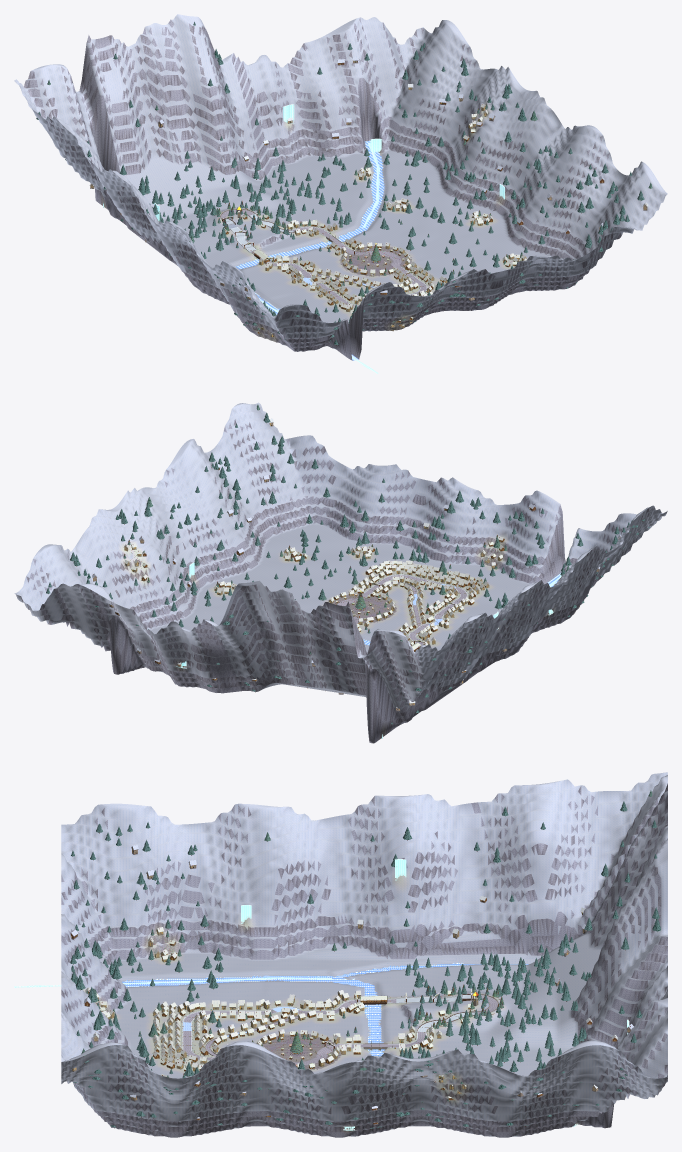
3 views of the same model, one above another, from view 1: azimuth 30°, elevation 25°; view 2: azimuth 150°, elevation 25°; view 3: azimuth 270°, elevation 25° (orthographic). The views are drawn at different scales.
Parts seen in each view (by area): view 1: Land, Water visual 0 0, Village visual -2 -1, Forest visual -2 2, Forest visual -1 2, Village visual -1 -1, Village visual -2 0; view 2: Land, Village visual -1 -2, Village visual -2 -1, Village visual -1 -1, Pines visual -1 -3, Pines visual -2 -3, Pines visual 2 0, Village visual -2 -2; view 3: Land, Village visual -1 -2, Village visual -2 -1, Forest visual -1 2, Forest visual -2 2, Water visual 0 0, Village visual -2 0, Village visual -1 -1, Forest visual -3 2, Forest visual -2 1, Pines visual -4 -2, Pines visual -2 -3 (+4 smaller).
Boxes of the visible parts, x1,y1,x2,y2 form: Land: [14, 14, 667, 360]; Water visual 0 0: [103, 104, 504, 373]; Village visual -2 -1: [291, 268, 356, 305]; Forest visual -2 2: [177, 190, 254, 228]; Forest visual -1 2: [237, 179, 306, 219]; Village visual -1 -1: [334, 261, 411, 289]; Village visual -2 0: [259, 255, 322, 277]; Land: [14, 402, 667, 743]; Village visual -1 -2: [389, 560, 465, 592]; Village visual -2 -1: [410, 593, 474, 628]; Village visual -1 -1: [356, 580, 423, 615]; Pines visual -1 -3: [428, 490, 500, 564]; Pines visual -2 -3: [493, 508, 545, 578]; Pines visual 2 0: [144, 502, 219, 595]; Village visual -2 -2: [447, 573, 489, 599]; Land: [61, 772, 667, 1137]; Village visual -1 -2: [152, 1016, 217, 1058]; Village visual -2 -1: [212, 994, 298, 1025]; Forest visual -1 2: [460, 1007, 542, 1057]; Forest visual -2 2: [461, 972, 537, 1017]; Water visual 0 0: [14, 859, 629, 1130]; Village visual -2 0: [297, 990, 378, 1020]; Village visual -1 -1: [212, 1018, 295, 1056]; Forest visual -3 2: [461, 952, 544, 982]; Forest visual -2 1: [411, 980, 462, 1020]; Pines visual -4 -2: [132, 822, 208, 945]; Pines visual -2 -3: [70, 924, 131, 1008].
Size of the model in its own units: 1140 by 407 by 1272.
40 materials, 40 textured.
